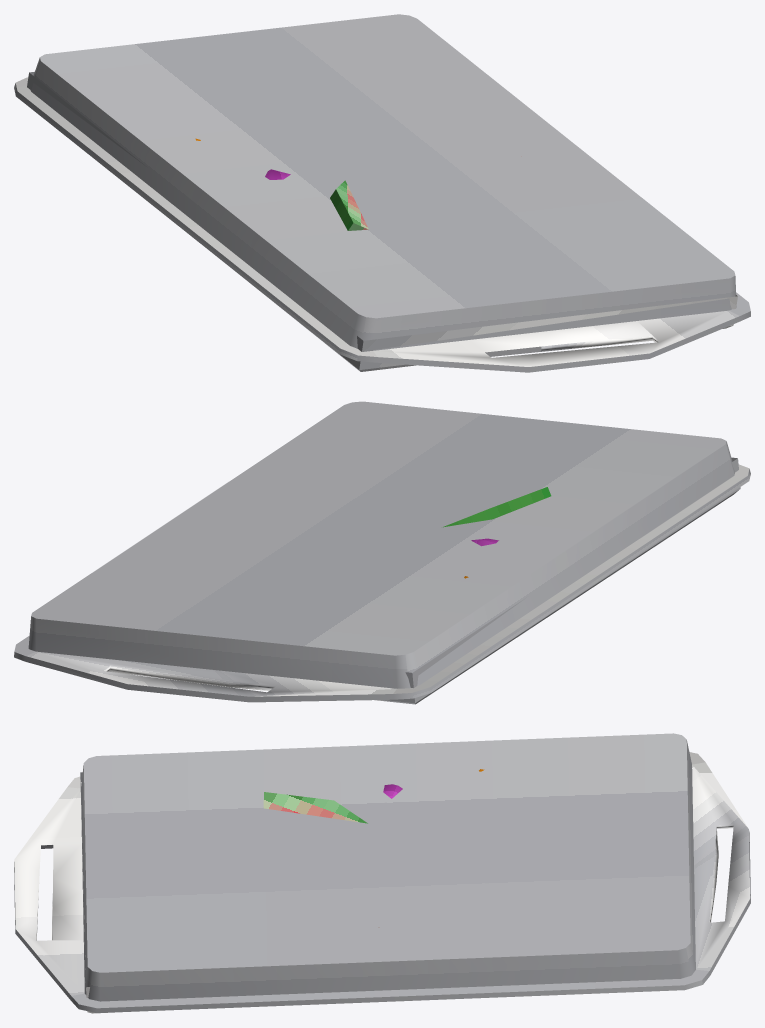
The model's file is H_MessTray_Fruit.fbx.
3 renders of one model, top to bottom at view 1: azimuth 30°, elevation 25°; view 2: azimuth 150°, elevation 25°; view 3: azimuth 270°, elevation 25°, orthographic. The views are drawn at different scales.
Visible parts, largest first — view 1: MessTray.001; view 2: MessTray.001; view 3: MessTray.001.
Boxes of the visible parts, bbox=[...] form: MessTray.001: bbox=[14, 14, 750, 372]; MessTray.001: bbox=[14, 401, 750, 704]; MessTray.001: bbox=[14, 733, 750, 1013].
Bounding box in the file's own units: 47.29 × 14.65 × 79.22.
